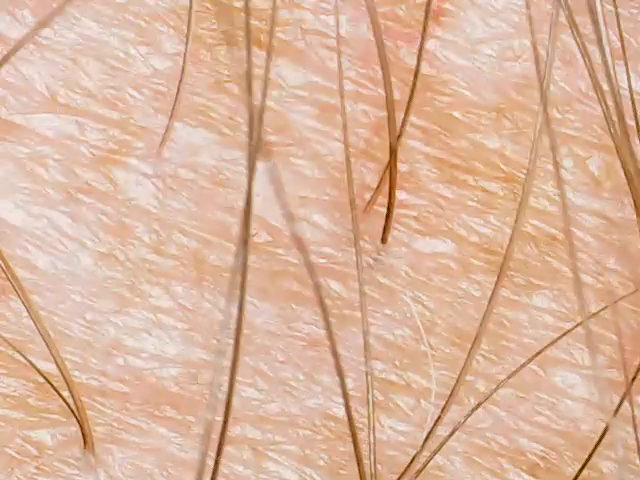folicle: (148, 136, 173, 169), (67, 438, 106, 457), (372, 228, 391, 258), (356, 200, 378, 221)
